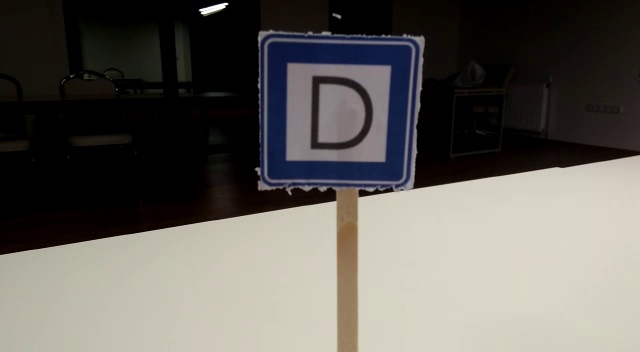durak: (259, 37, 421, 190)
